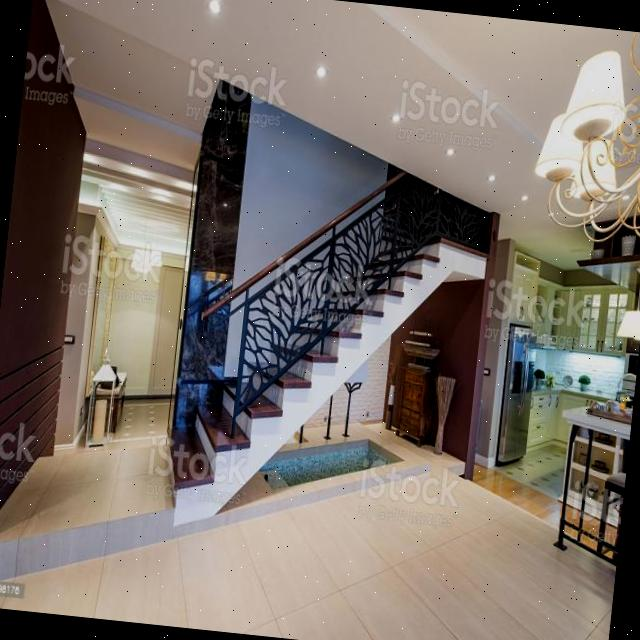stairs: (170, 153, 448, 557)
